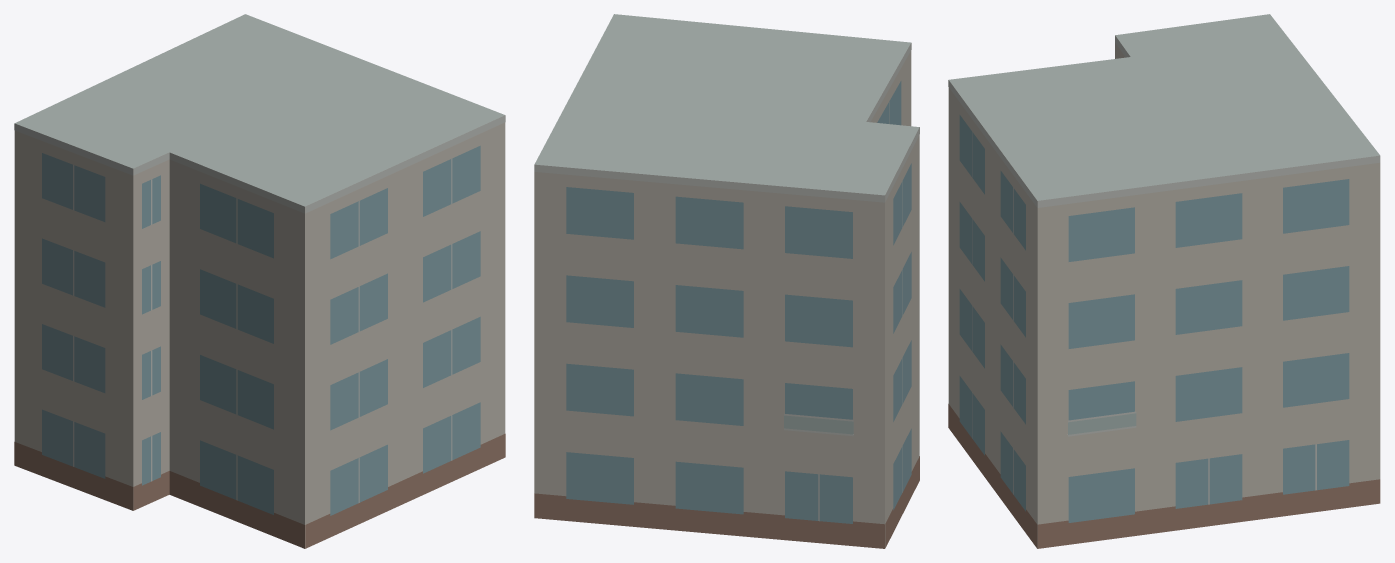
File: survey-upis-32981660.glb
3 views of the same model, side by side, from view 1: azimuth 30°, elevation 25°; view 2: azimuth 150°, elevation 25°; view 3: azimuth 270°, elevation 25° (orthographic). The views are drawn at different scales.
Parts seen in each view (by area): view 1: survey-upis-32981660.tmp; view 2: survey-upis-32981660.tmp; view 3: survey-upis-32981660.tmp.
Boxes of the visible parts, box(x1,y1,x2,y2) form: survey-upis-32981660.tmp: box(14, 14, 505, 548); survey-upis-32981660.tmp: box(534, 14, 919, 548); survey-upis-32981660.tmp: box(948, 14, 1380, 548).
Bounding box in the file's own units: 13.72 × 11.9 × 13.4.
